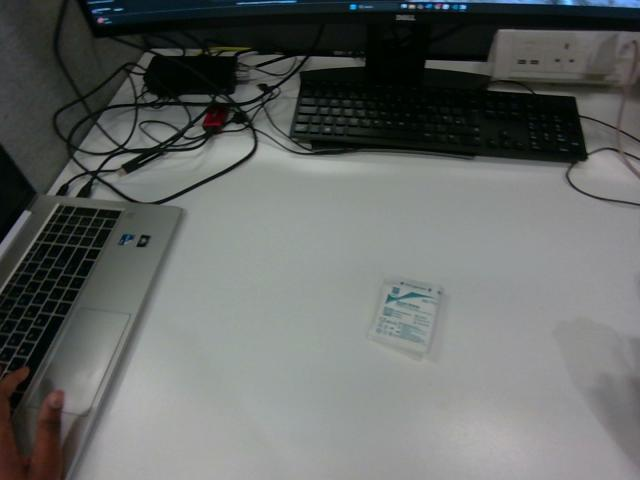gauze: (367, 279, 441, 359)
